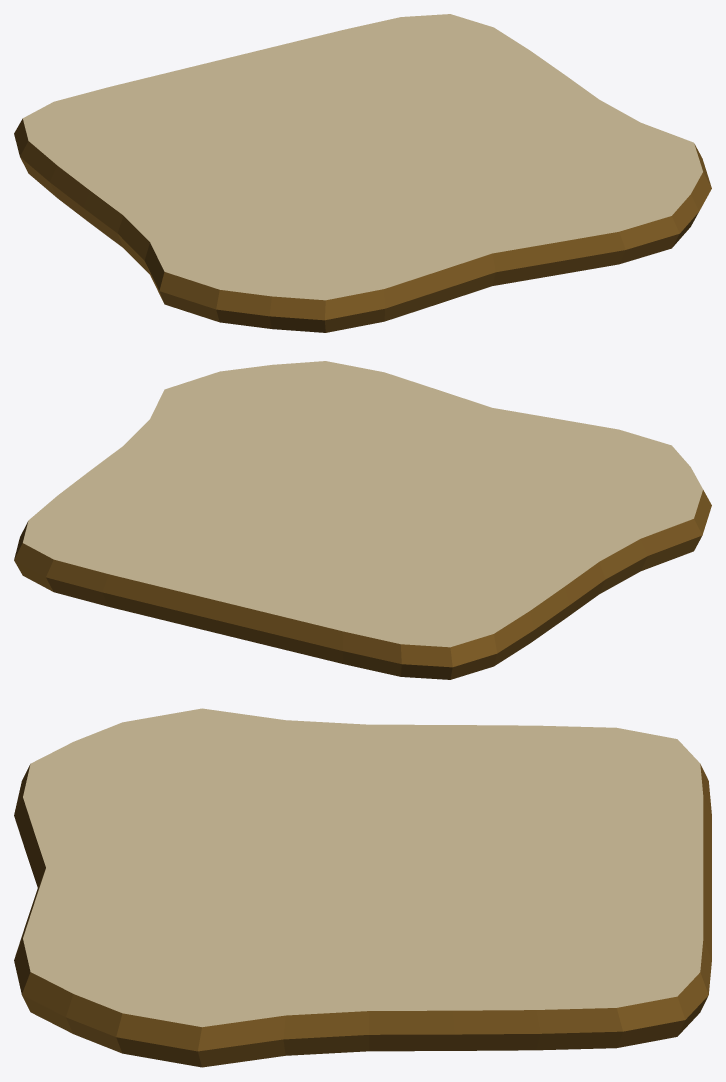
The model's file is bread.FBX.
3 renders of one model, top to bottom at view 1: azimuth 30°, elevation 25°; view 2: azimuth 150°, elevation 25°; view 3: azimuth 270°, elevation 25°, orthographic. The views are drawn at different scales.
Parts seen in each view (by area): view 1: Bread2; view 2: Bread2; view 3: Bread2.
Boxes of the visible parts, bbox=[...] form: Bread2: bbox=[14, 14, 711, 332]; Bread2: bbox=[14, 361, 711, 679]; Bread2: bbox=[14, 708, 711, 1067].
Size of the model in its own units: 0.00142 by 8.14e-05 by 0.00128.
